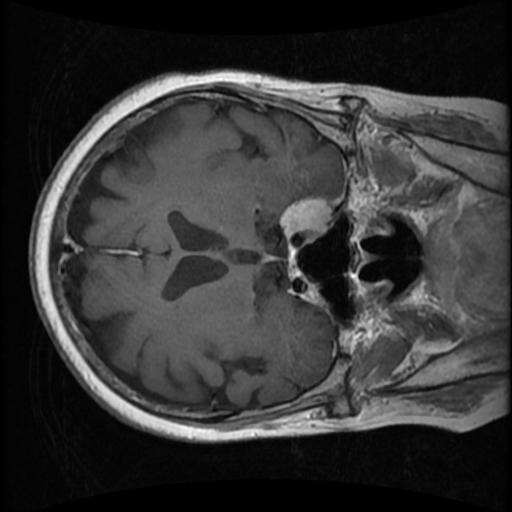meningioma: (279, 198, 331, 237)
